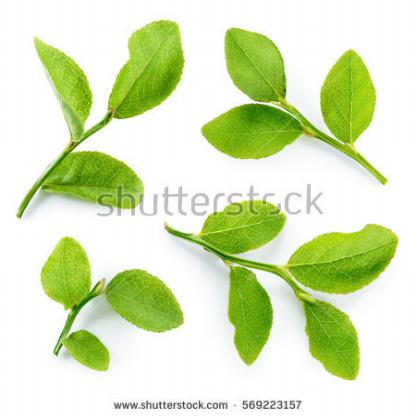blueberry leaf: (102, 11, 186, 130), (284, 225, 408, 297), (39, 144, 149, 215), (102, 263, 199, 341), (314, 45, 381, 153), (184, 193, 293, 258), (30, 28, 89, 140), (215, 19, 289, 106), (198, 104, 308, 162), (221, 263, 278, 374), (300, 296, 366, 384), (37, 226, 96, 321), (57, 328, 117, 376)
